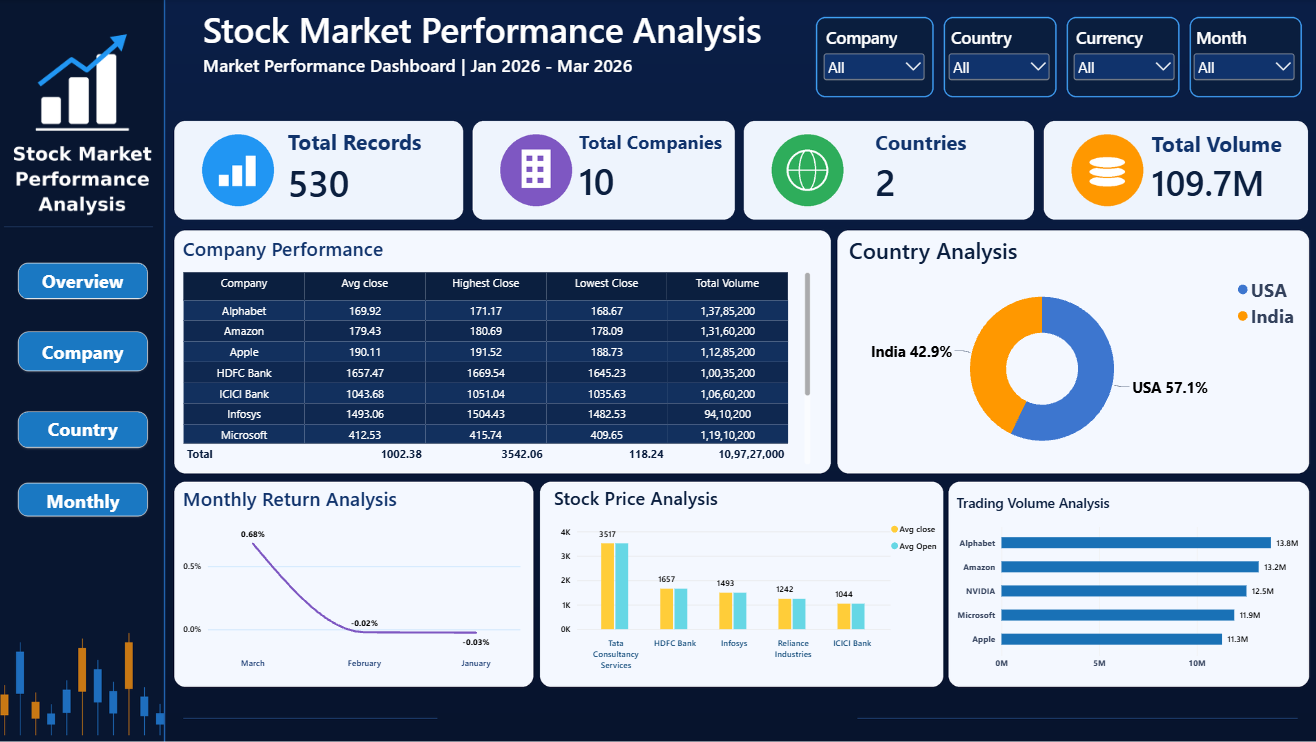

The page's visual inventory and layout, read from the dashboard file:
{"tool":"powerbi","page":{"name":"Overview","canvas":[1920,1080],"ordinal":0},"visuals":[{"type":"slicer","fields":{"Values":["Stock_Clean.Company"]},"box":[1198,39.8,155.6,105],"z":0},{"type":"slicer","fields":{"Values":["Stock_Clean.Country"]},"box":[1379,39.8,155.6,105],"z":1000},{"type":"slicer","fields":{"Values":["Stock_Clean.Currency"]},"box":[1559.9,39.8,155.6,105],"z":2000},{"type":"slicer","fields":{"Values":["Stock_Clean.Month "]},"box":[1733.7,39.8,155.6,105],"z":3000},{"type":"cardVisual","fields":{"Data":["Stock_Clean.Total Records"]},"box":[410.8,161.1,316.7,166.5],"z":4000},{"type":"cardVisual","fields":{"Data":["Stock_Clean.Total Companies"]},"box":[832.4,161.1,316.7,166.5],"z":5000},{"type":"cardVisual","fields":{"Data":["Stock_Clean.Total Countries"]},"box":[1261.3,161.1,316.7,166.5],"z":6000},{"type":"cardVisual","fields":{"Data":["Stock_Clean.Total Volume"]},"box":[1661.3,161.1,258.8,166.5],"z":7000},{"type":"donutChart","title":"Country Analysis","fields":{"Category":["Stock_Clean.Country"],"Y":["Stock_Clean.Total Volume"]},"box":[1223.3,327.5,685.9,358.3],"z":8000},{"type":"tableEx","title":"Company Performance","fields":{"Values":["Stock_Clean.Company","Stock_Clean.Avg close","Stock_Clean.Highest Close","Stock_Clean.Lowest Close","Stock_Clean.Total Volume"]},"box":[259.3,327.3,940.7,362.3],"z":9000},{"type":"lineChart","title":"Monthly Return  Analysis","fields":{"Category":["Stock_Clean.Month "],"Y":["Stock_Clean.Avg Daily Return"]},"box":[258.8,689.5,521.2,300.4],"z":10000},{"type":"clusteredBarChart","title":"Trading Volume Analysis","fields":{"Category":["Stock_Clean.Company"],"Y":["Stock_Clean.Total Volume"]},"box":[1379,700.3,541.1,289.5],"z":11000},{"type":"clusteredColumnChart","title":"Stock Price Analysis","fields":{"Category":["Stock_Clean.Company"],"Y":["Stock_Clean.Avg close","Stock_Clean.Avg Open"]},"box":[796.3,689.5,595.4,300.4],"z":12000},{"type":"textbox","title":"Stock Market Performance Analysis","box":[304,9,850.5,164.7],"z":13000},{"type":"image","box":[0,18.1,258.8,345.6],"z":14000},{"type":"actionButton","box":[36.2,481.4,188.2,57.9],"z":15006},{"type":"actionButton","box":[36.2,597.2,188.2,52.5],"z":15007},{"type":"actionButton","box":[36.2,700.3,188.2,48.9],"z":15008},{"type":"actionButton","box":[36.2,381.8,188.2,52.5],"z":15009}]}

Visuals, with their boxes in screenshot pixels (x1, y1, x2, y2), scaled from the page's 1920x1080 canvas onto the 1316x742 screenshot:
slicer - Stock_Clean.Company: <bbox>821, 27, 928, 99</bbox>
slicer - Stock_Clean.Country: <bbox>945, 27, 1052, 99</bbox>
slicer - Stock_Clean.Currency: <bbox>1069, 27, 1176, 99</bbox>
slicer - Stock_Clean.Month : <bbox>1188, 27, 1295, 99</bbox>
cardVisual - Stock_Clean.Total Records: <bbox>282, 111, 499, 225</bbox>
cardVisual - Stock_Clean.Total Companies: <bbox>571, 111, 788, 225</bbox>
cardVisual - Stock_Clean.Total Countries: <bbox>865, 111, 1082, 225</bbox>
cardVisual - Stock_Clean.Total Volume: <bbox>1139, 111, 1315, 225</bbox>
"Country Analysis" donutChart: <bbox>838, 225, 1309, 471</bbox>
"Company Performance" tableEx: <bbox>178, 225, 822, 474</bbox>
"Monthly Return  Analysis" lineChart: <bbox>177, 474, 535, 680</bbox>
"Trading Volume Analysis" clusteredBarChart: <bbox>945, 481, 1315, 680</bbox>
"Stock Price Analysis" clusteredColumnChart: <bbox>546, 474, 954, 680</bbox>
"Stock Market Performance Analysis" textbox: <bbox>208, 6, 791, 119</bbox>
image: <bbox>0, 12, 177, 250</bbox>
actionButton: <bbox>25, 331, 154, 371</bbox>
actionButton: <bbox>25, 410, 154, 446</bbox>
actionButton: <bbox>25, 481, 154, 515</bbox>
actionButton: <bbox>25, 262, 154, 298</bbox>
